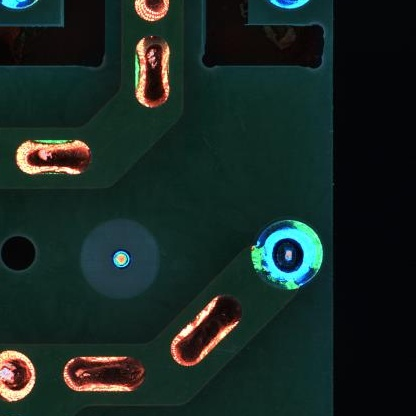spot: (249, 221, 323, 288)
